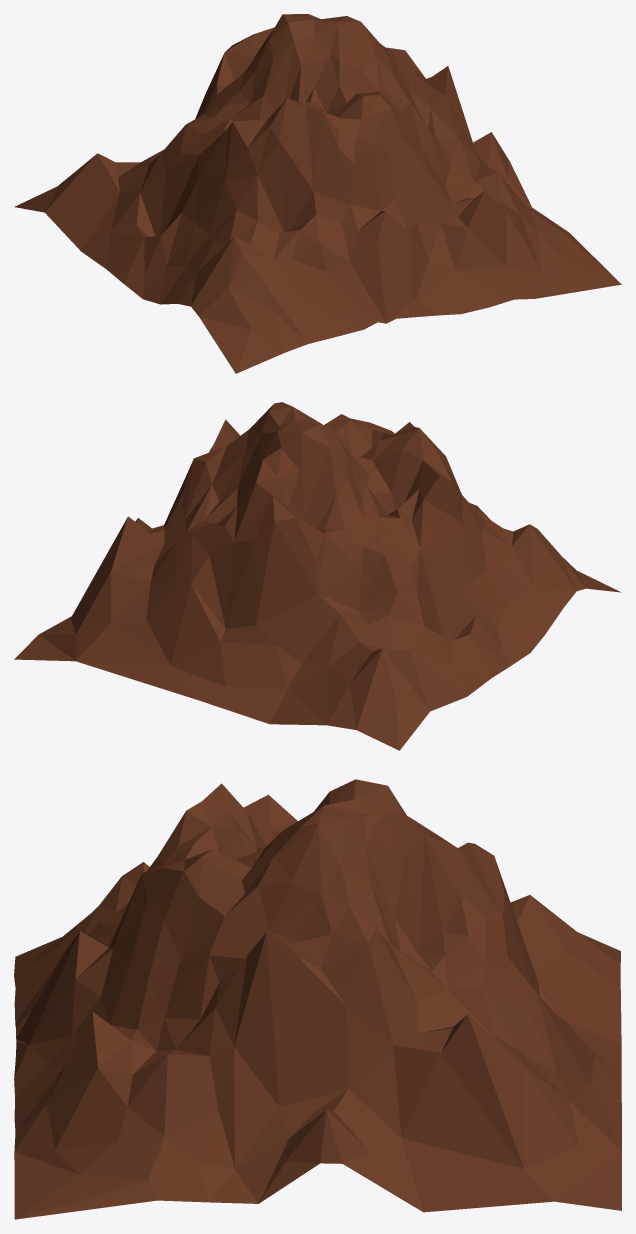
File: mountain.fbx
3 renders of one model, top to bottom at view 1: azimuth 30°, elevation 25°; view 2: azimuth 150°, elevation 25°; view 3: azimuth 270°, elevation 25°, orthographic. The views are drawn at different scales.
Visible parts, largest first — view 1: Plane; view 2: Plane; view 3: Plane.
Boxes of the visible parts, x1,y1,x2,y2 form: Plane: (14, 14, 621, 373); Plane: (14, 402, 621, 750); Plane: (14, 779, 621, 1219).
Bounding box in the file's own units: 6015 × 3288 × 6007.
